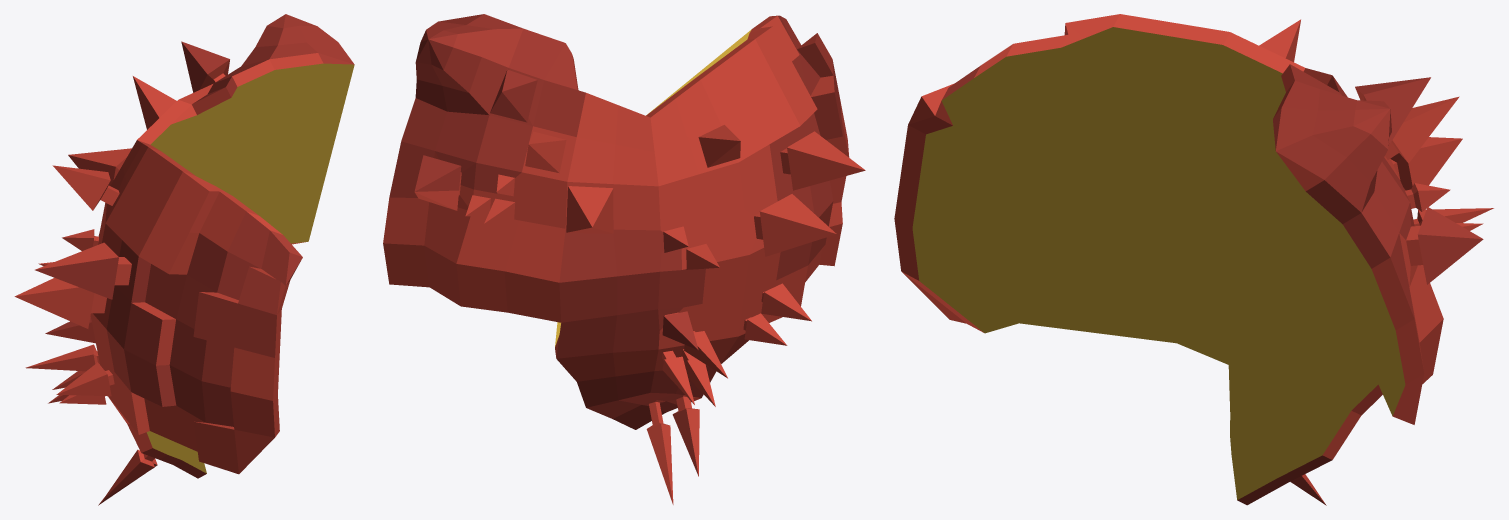
Rendered from Boom1.fbx.
3 views of the same model, side by side, from view 1: azimuth 30°, elevation 25°; view 2: azimuth 150°, elevation 25°; view 3: azimuth 270°, elevation 25° (orthographic). The views are drawn at different scales.
Parts seen in each view (by area): view 1: Boom; view 2: Boom; view 3: Boom.
Boxes of the visible parts, x1,y1,x2,y2 form: Boom: (14,14,354,505); Boom: (383,14,865,504); Boom: (894,14,1493,505).
Bounding box in the file's own units: 146 × 157 × 162.
